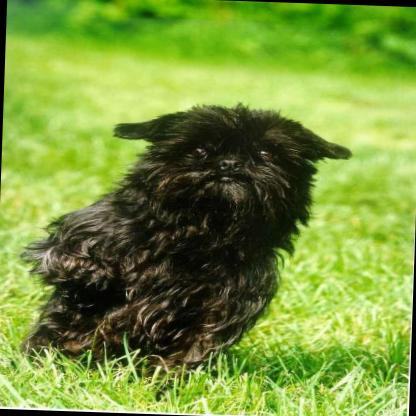affenpinscher: (16, 89, 357, 407)
